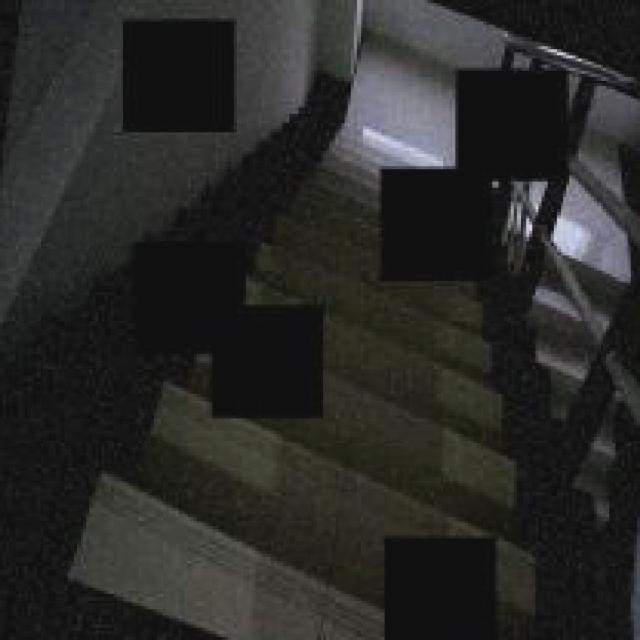downstair: (336, 306, 524, 518)
